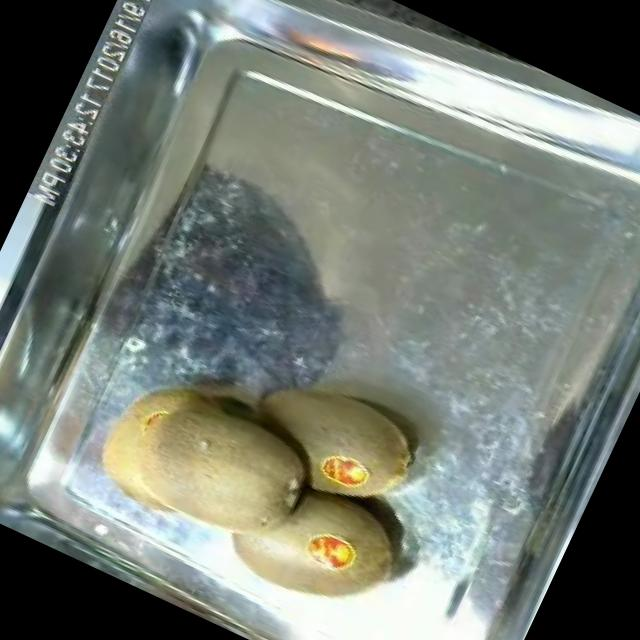Fruit: (68, 334, 345, 582), (226, 348, 441, 534)
